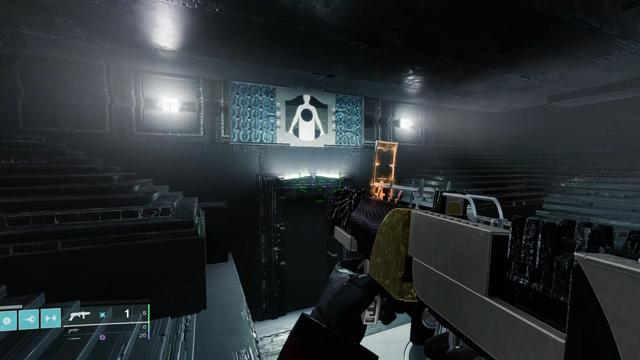grief: (285, 94, 328, 141)
